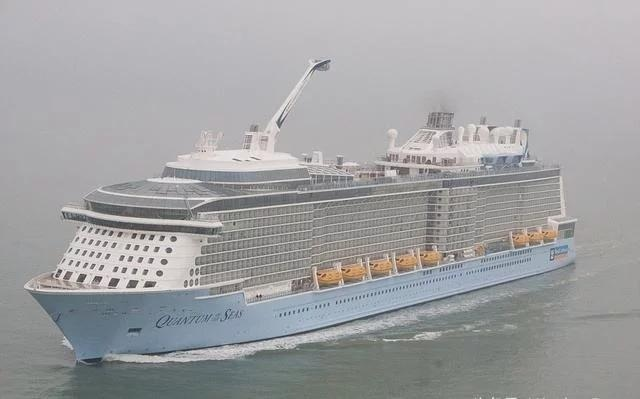youlun: (25, 60, 582, 360)
